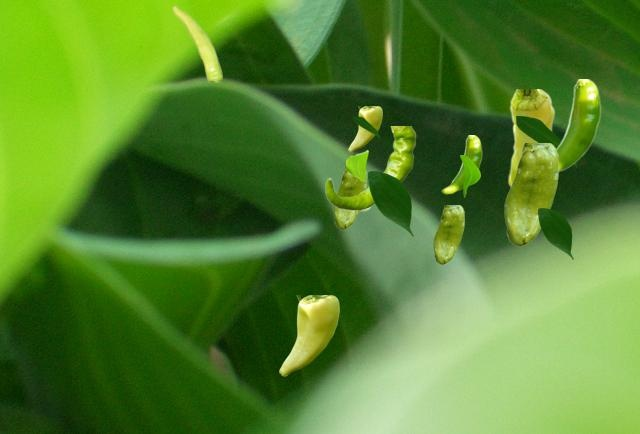green_chili: (325, 126, 415, 210), (504, 143, 557, 245), (279, 295, 338, 375), (507, 89, 554, 187), (557, 79, 600, 173), (172, 5, 221, 81), (441, 135, 481, 193), (333, 165, 365, 228), (433, 205, 463, 263), (348, 106, 381, 151)
